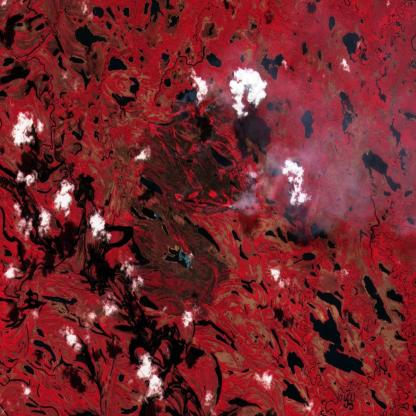fire: (169, 97, 264, 218)
